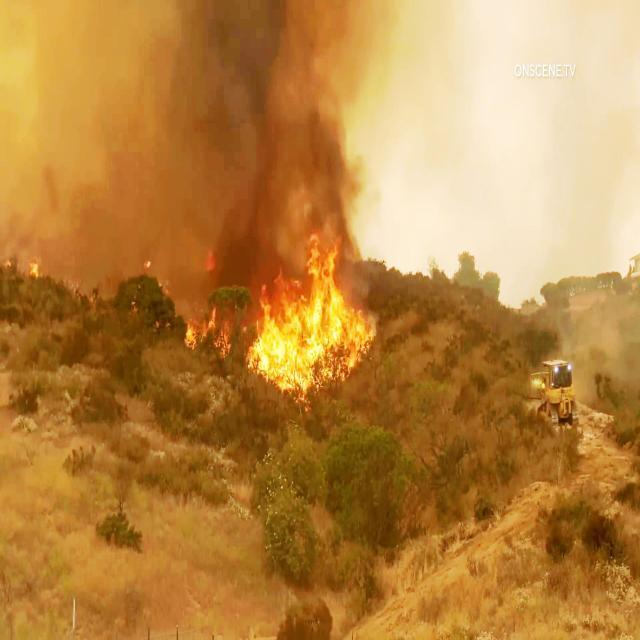Fire: (248, 212, 378, 392), (178, 300, 234, 364), (1, 252, 10, 274), (31, 262, 40, 282)
Smoke: (0, 0, 395, 212), (46, 218, 250, 296)
